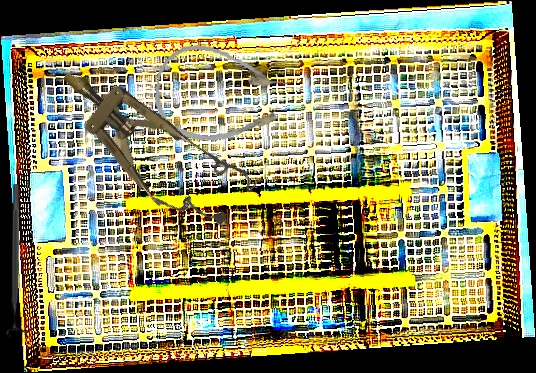Cannula: (150, 39, 292, 152)
Fixation Ring: (5, 184, 28, 337)
Speculum: (38, 41, 262, 246)
